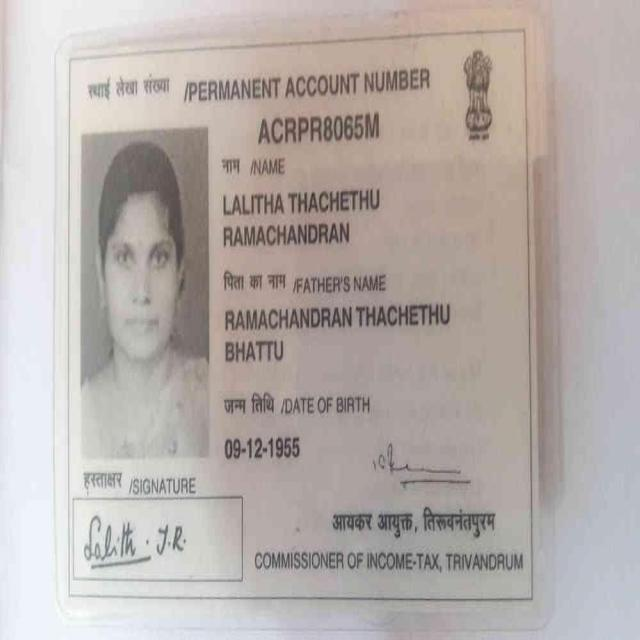pan_card: (67, 30, 532, 597)
